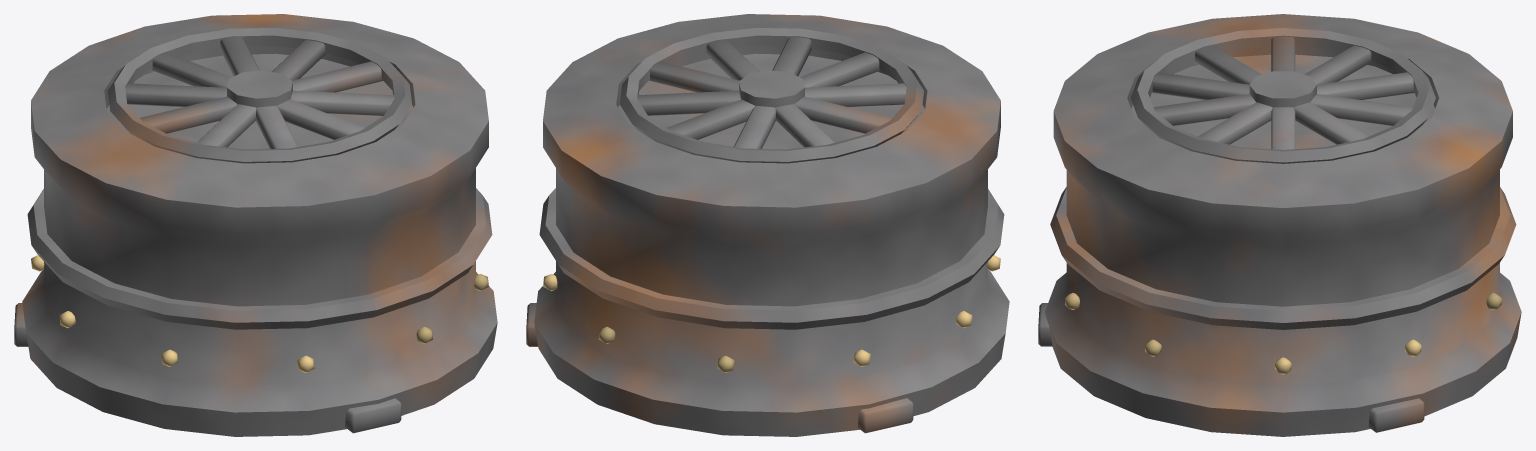
The model's file is furnace_vent.gltf.
The picture shows the model from 3 angles, left to right: view 1: azimuth 30°, elevation 25°; view 2: azimuth 150°, elevation 25°; view 3: azimuth 270°, elevation 25°; orthographic projection.
Parts seen in each view (by area): view 1: furnace_vent; view 2: furnace_vent; view 3: furnace_vent.
Part boxes in pixels (x1,y1,x2,y2): furnace_vent: [14, 14, 497, 436]; furnace_vent: [526, 14, 1009, 436]; furnace_vent: [1038, 14, 1521, 436].
Bounding box in the file's own units: 0.99 × 0.58 × 1.
1 material, 1 textured.
